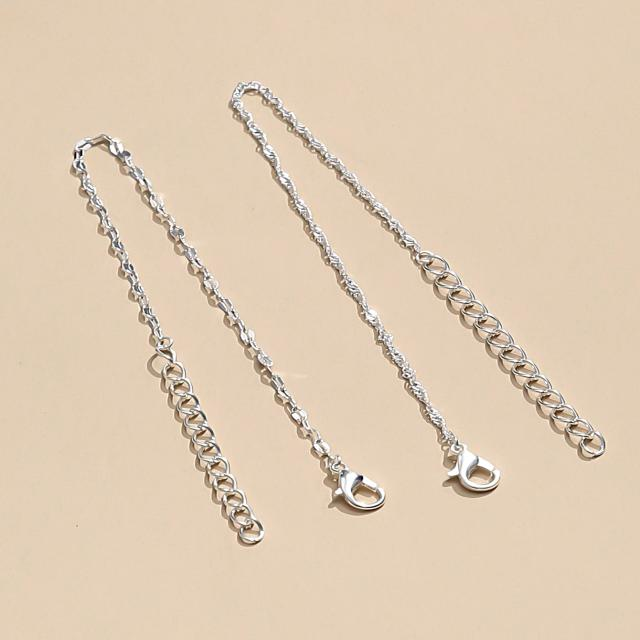bracelet: (65, 68, 640, 578)
